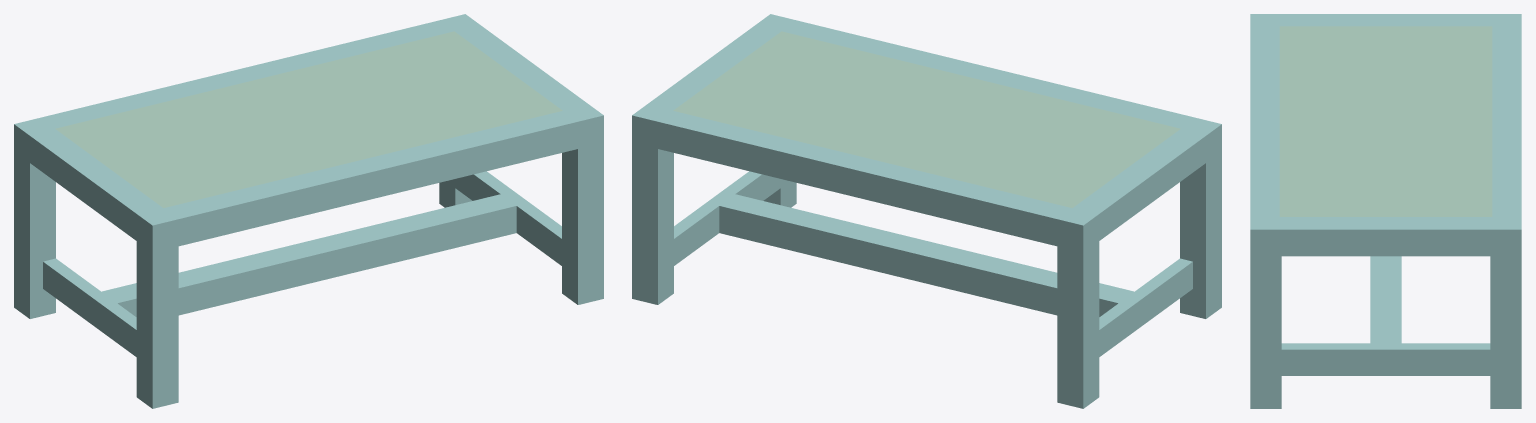
File: tableGlass.glb
3 views of the same model, side by side, from view 1: azimuth 30°, elevation 25°; view 2: azimuth 150°, elevation 25°; view 3: azimuth 270°, elevation 25° (orthographic). The views are drawn at different scales.
Size of the model in its own units: 8.41 by 3.27 by 4.47.
